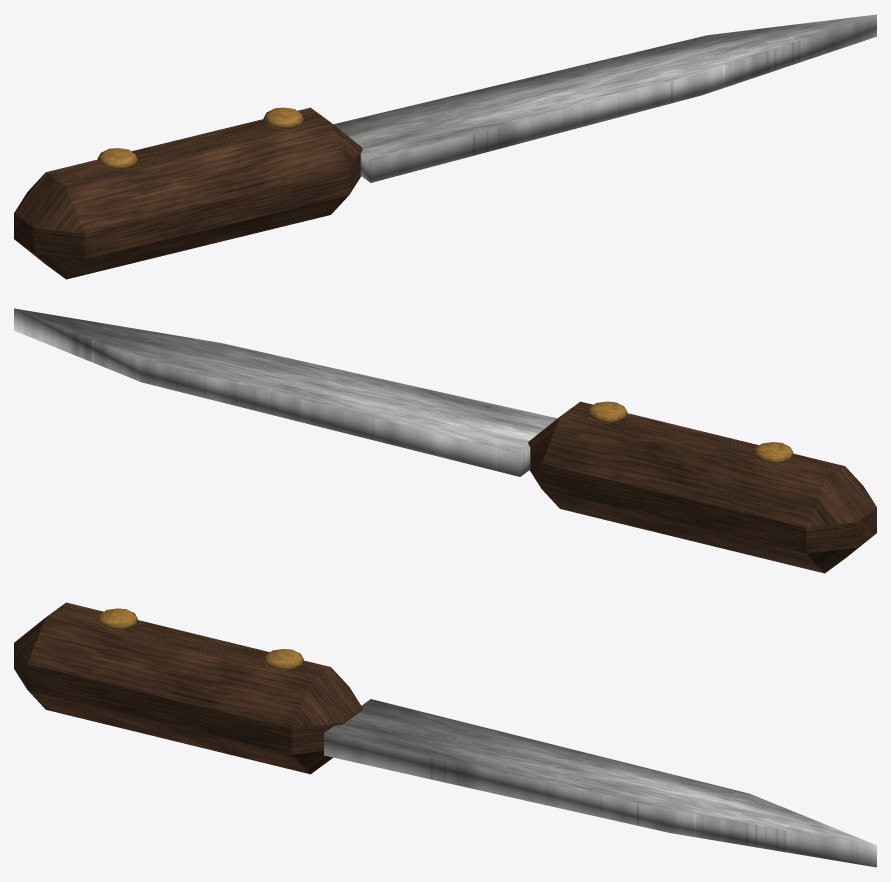
Rendered from knife_table.glb.
3 views of the same model, one above another, from view 1: azimuth 30°, elevation 25°; view 2: azimuth 150°, elevation 25°; view 3: azimuth 330°, elevation 25° (orthographic).
Parts seen in each view (by area): view 1: oak_dark, steel, brass; view 2: oak_dark, steel, brass; view 3: oak_dark, steel, brass.
Part boxes in pixels (x1=…): oak_dark: x1=14, y1=107, x2=362, y2=279; steel: x1=333, y1=14, x2=876, y2=182; brass: x1=97, y1=107, x2=303, y2=169; oak_dark: x1=528, y1=401, x2=876, y2=573; steel: x1=14, y1=308, x2=557, y2=476; brass: x1=587, y1=401, x2=793, y2=463; oak_dark: x1=14, y1=602, x2=362, y2=774; steel: x1=324, y1=699, x2=876, y2=867; brass: x1=97, y1=608, x2=303, y2=670.
Size of the model in its own units: 0.2415 by 0.0285 by 0.028.
3 materials, 3 textured.
